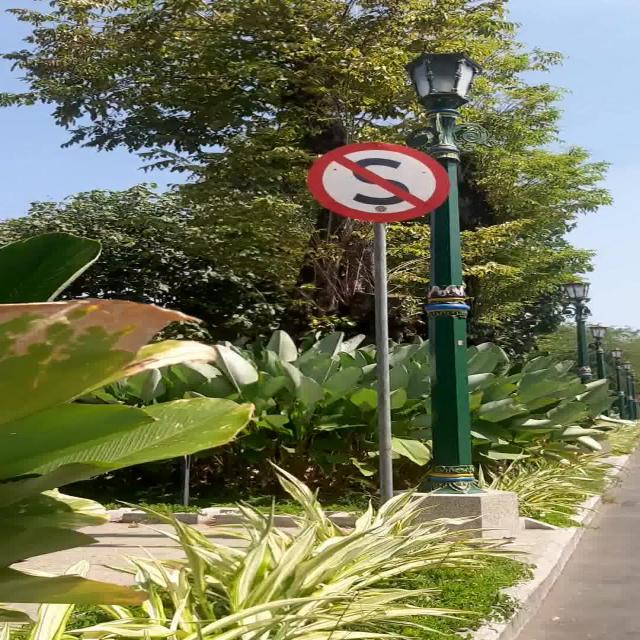Dilarang Berhenti: (307, 142, 450, 222)
